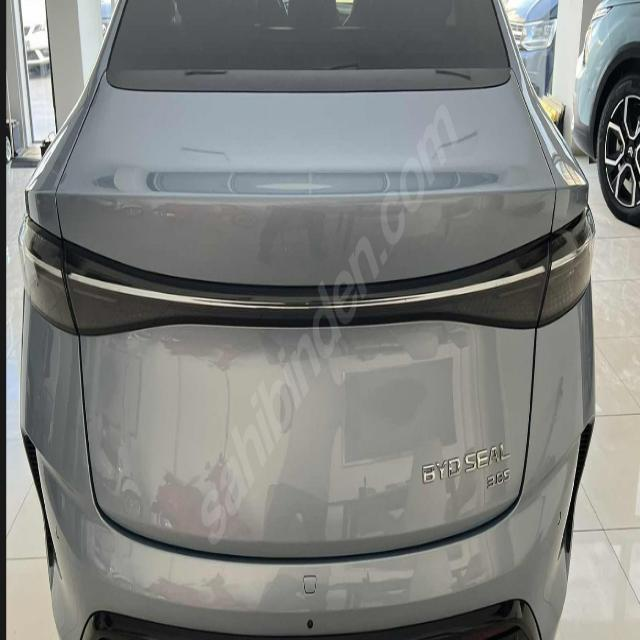byd: (418, 454, 464, 492)
